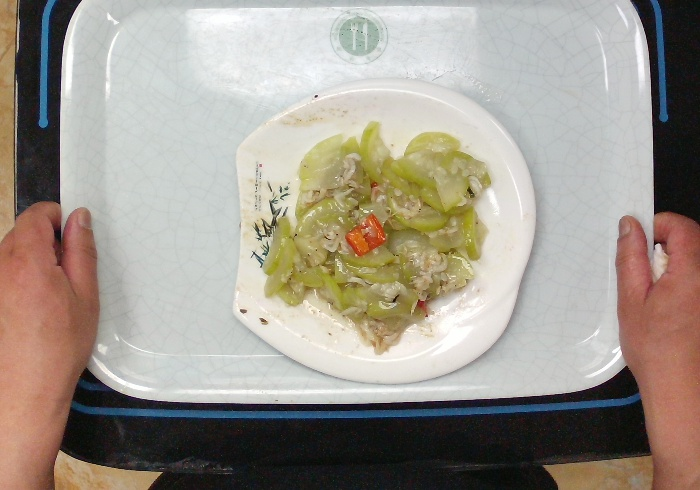JYsf-Mian_Pan: (220, 70, 531, 384)
